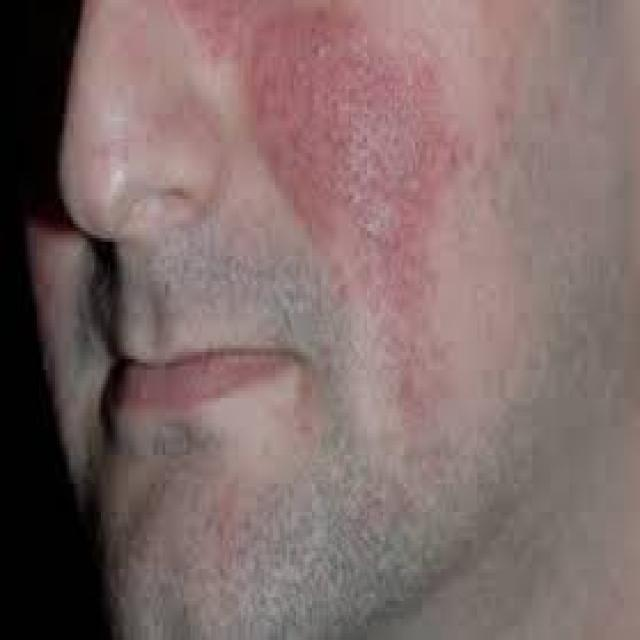Rosacea: (189, 0, 466, 427)
